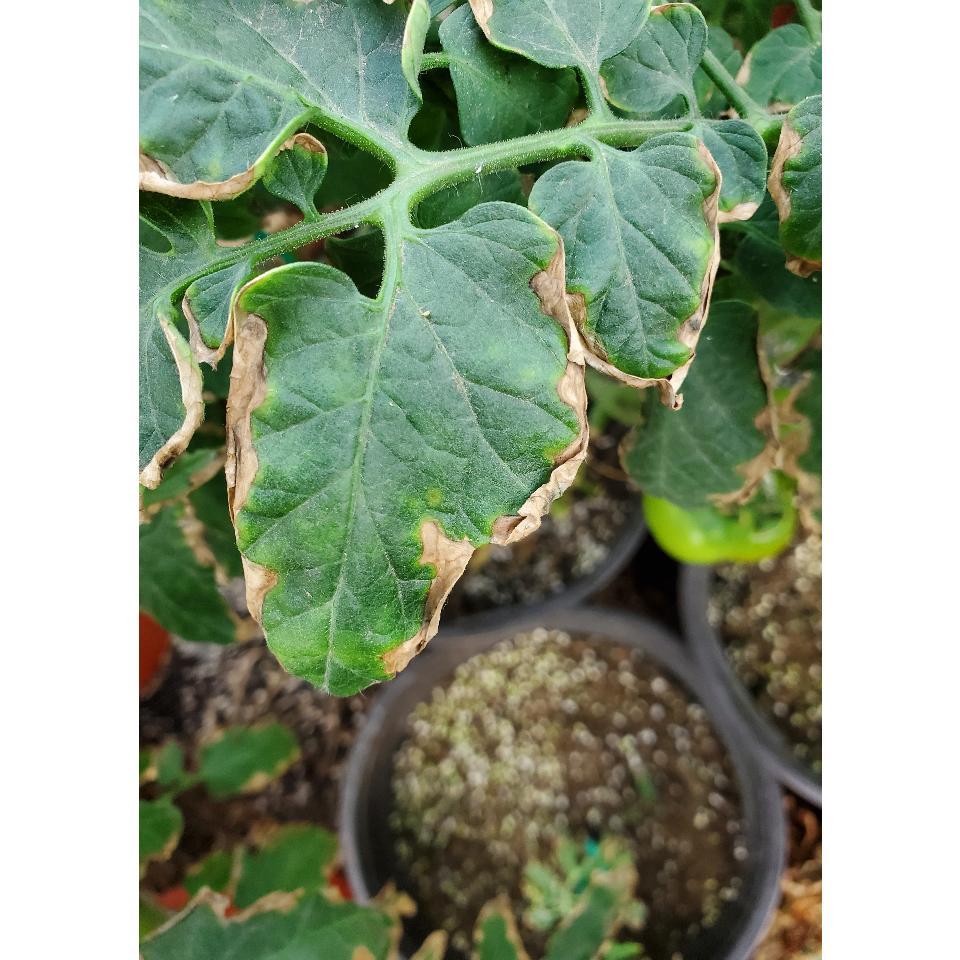tomato_bacterial_blight: (215, 210, 591, 700), (524, 126, 732, 410)
